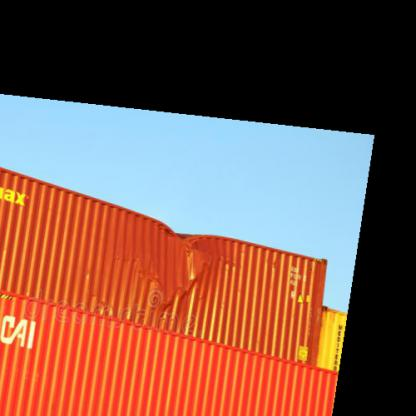Damage: (144, 221, 216, 298)
